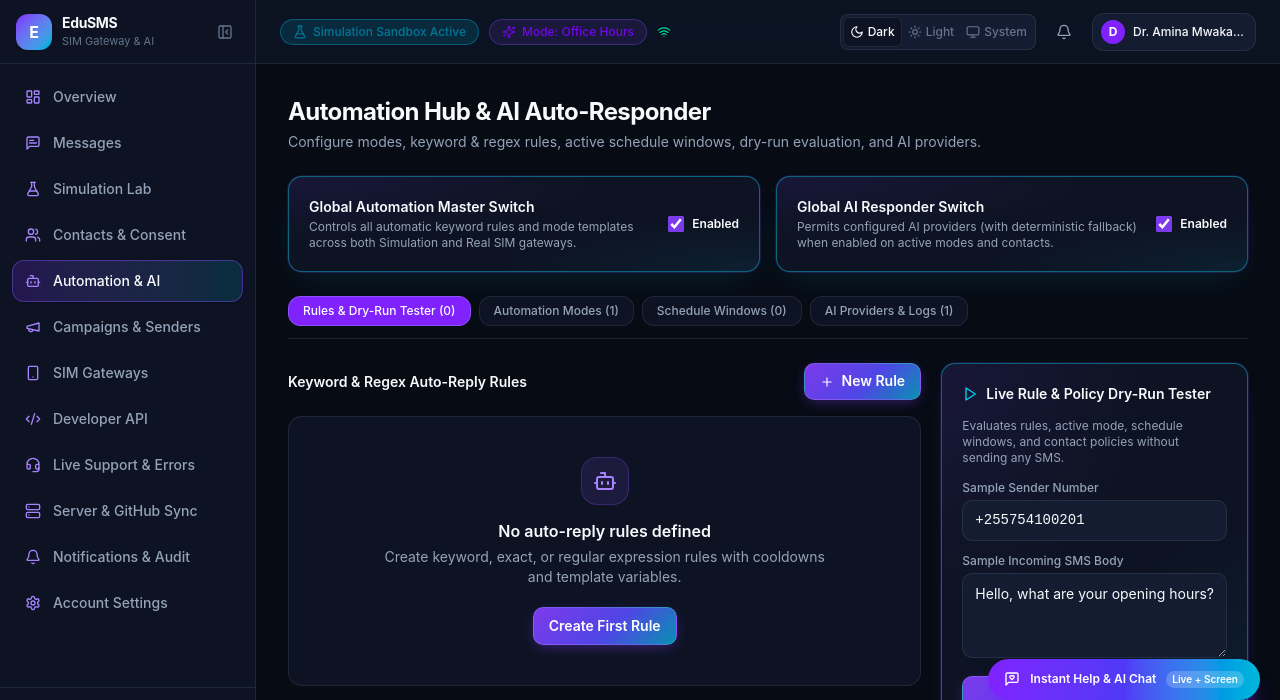
Automation Hub: Rule Builder, Live Dry-Run Tester & AI Provider Masked Secrets › displays masked AI provider API keys and preserves stored secret when edited with blank key field
Note: Switch to AI Providers & Logs tab
Click the button "AI Providers & Logs (1)" at x=889, y=311, box [810,296,968,326]
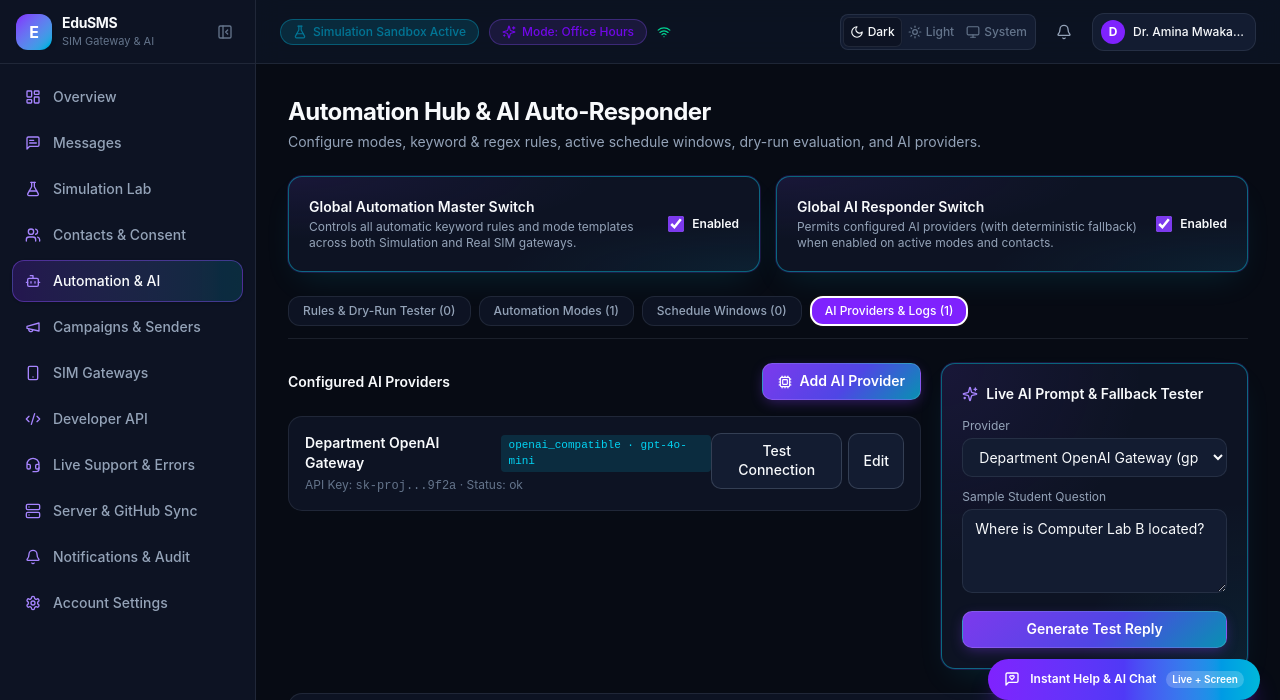
Expected: the text "Department OpenAI Gateway" is shown, [305,434,439,471]
Expected: the text "sk-proj...9f2a" is shown, [356,479,456,493]
Note: Click Edit on the provider
Click the button "Edit" at x=876, y=461, box [848,433,904,489]
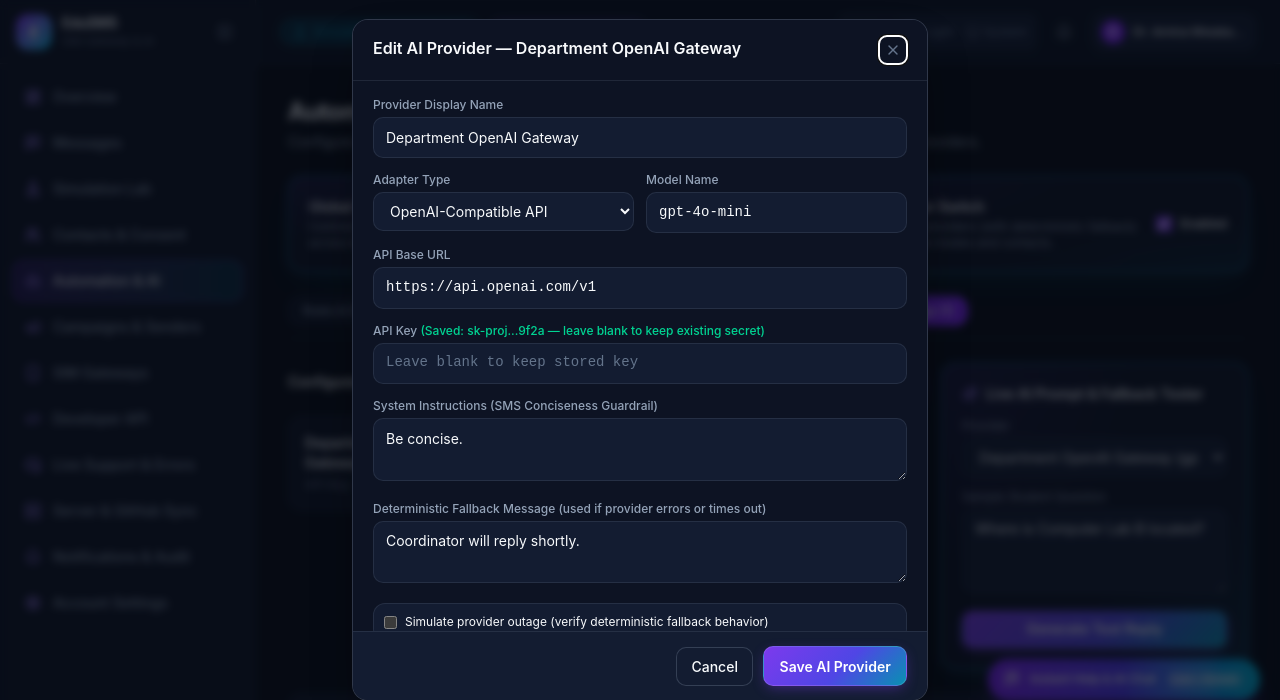
Expected: the text "Saved: sk-proj...9f2a" is shown, [420,323,765,338]
Expected: the password field labelled "API Key" is empty, [373,343,907,384]
Note: Update display name without typing a new API key
Replace the text in the field labelled "Provider Display Name" with "Updated OpenAI Gateway" at x=640, y=138, box [373,117,907,158]
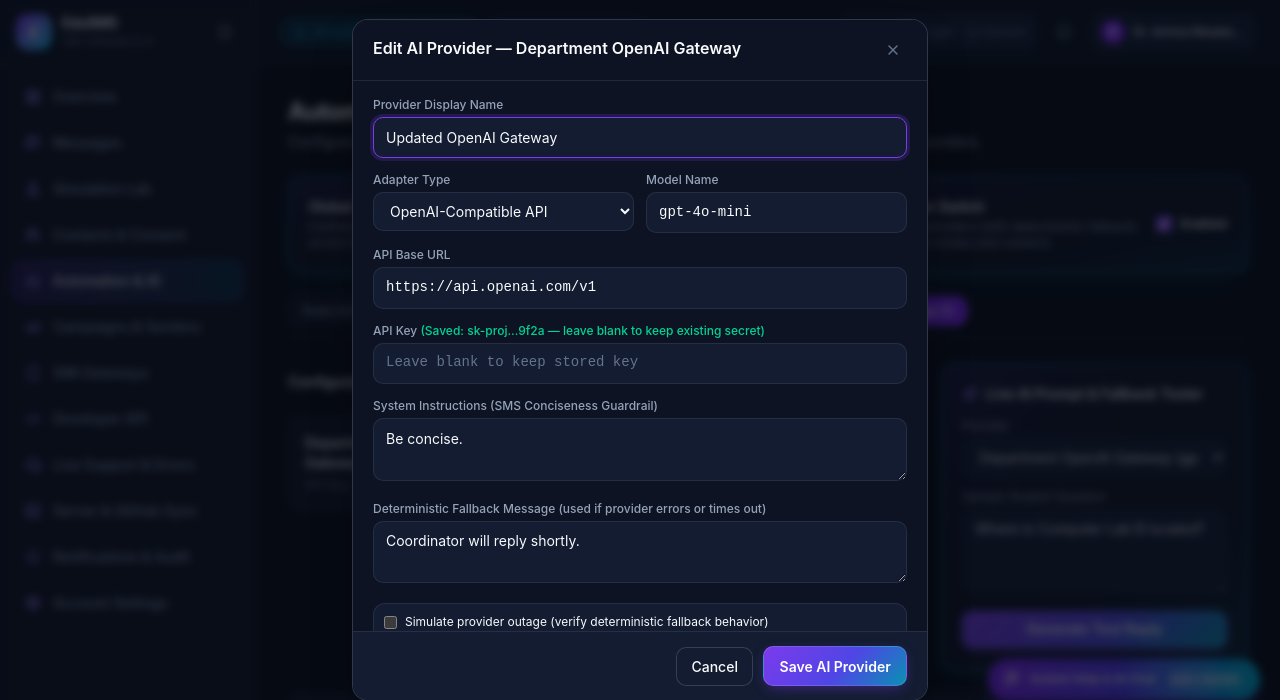
Click the button "Save AI Provider" at x=835, y=666, box [763,646,907,686]
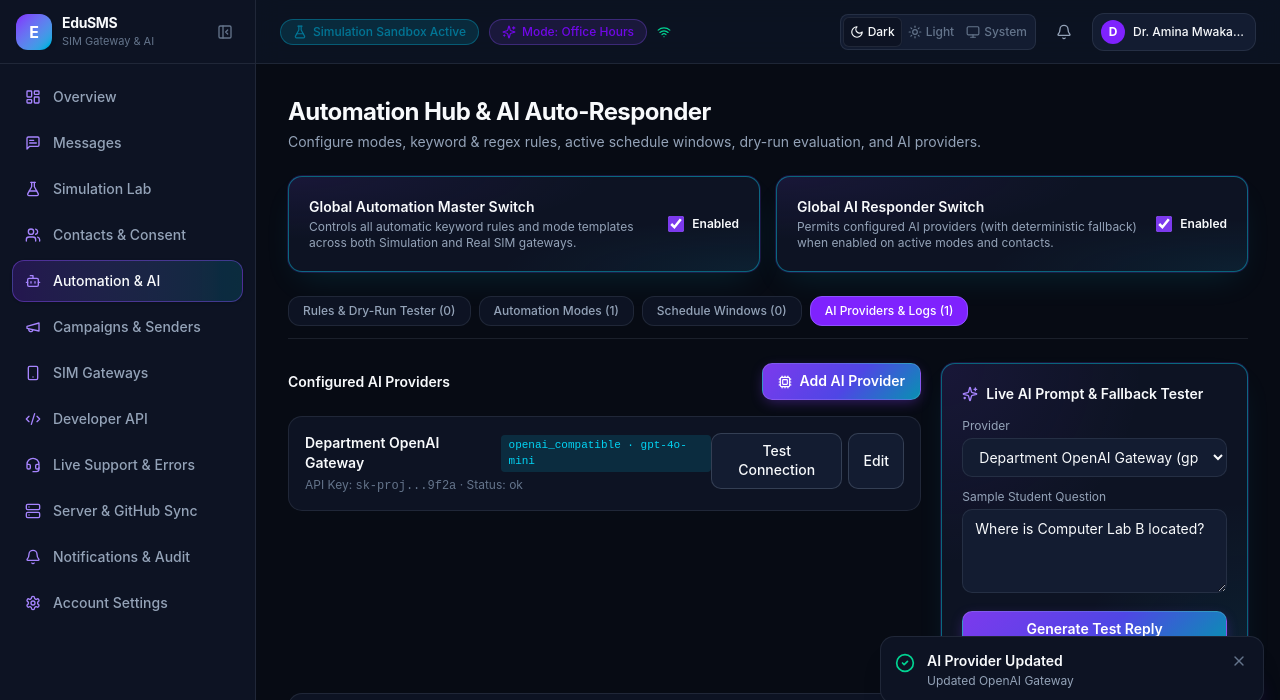
Expected: the text "Updated OpenAI Gateway" is shown, [927,673,1074,688]
